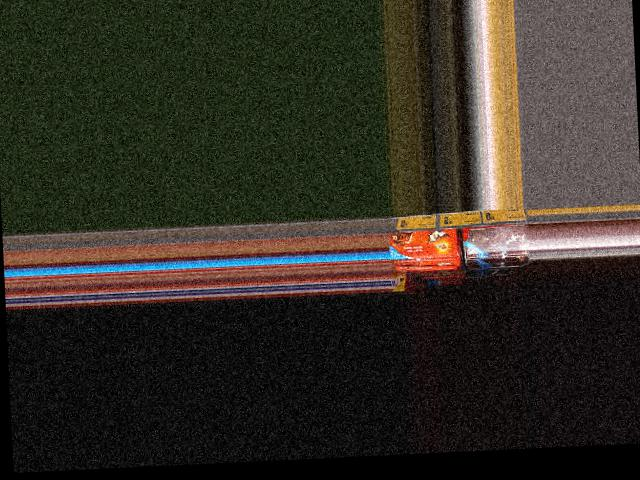chocolate: (468, 217, 530, 258)
